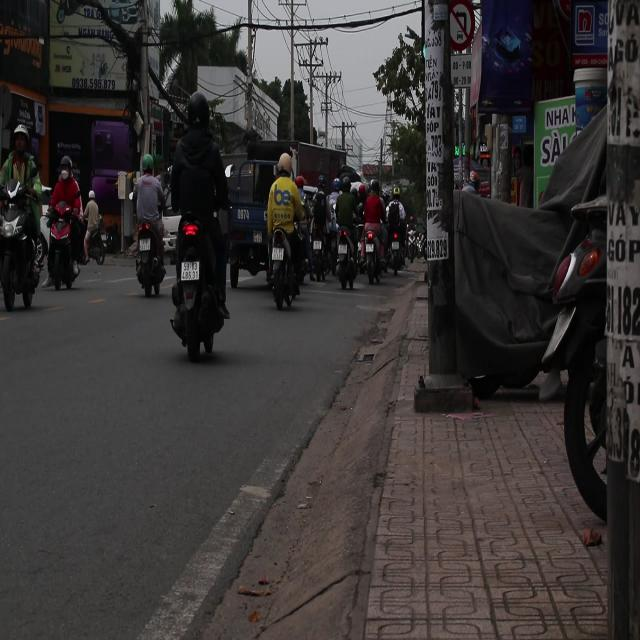motorbike: (170, 211, 230, 361), (0, 182, 46, 308), (46, 202, 86, 297), (266, 227, 300, 310), (133, 219, 169, 296)
truck: (226, 160, 282, 280)
